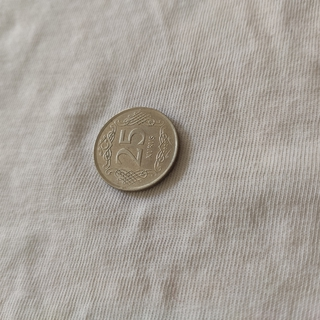25KURUS: (92, 105, 180, 193)
